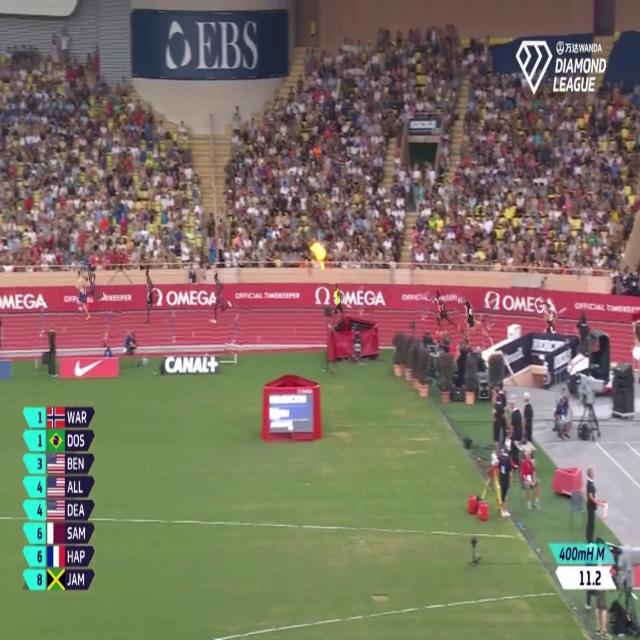athlete: (432, 288, 464, 346), (458, 290, 483, 352), (206, 264, 226, 339), (141, 264, 160, 332), (84, 256, 103, 309), (537, 297, 559, 340), (329, 278, 346, 331), (76, 267, 88, 332)
hurdle: (225, 306, 248, 354), (477, 293, 500, 337), (101, 302, 121, 347), (36, 302, 57, 344), (416, 285, 433, 329), (170, 304, 184, 348)
